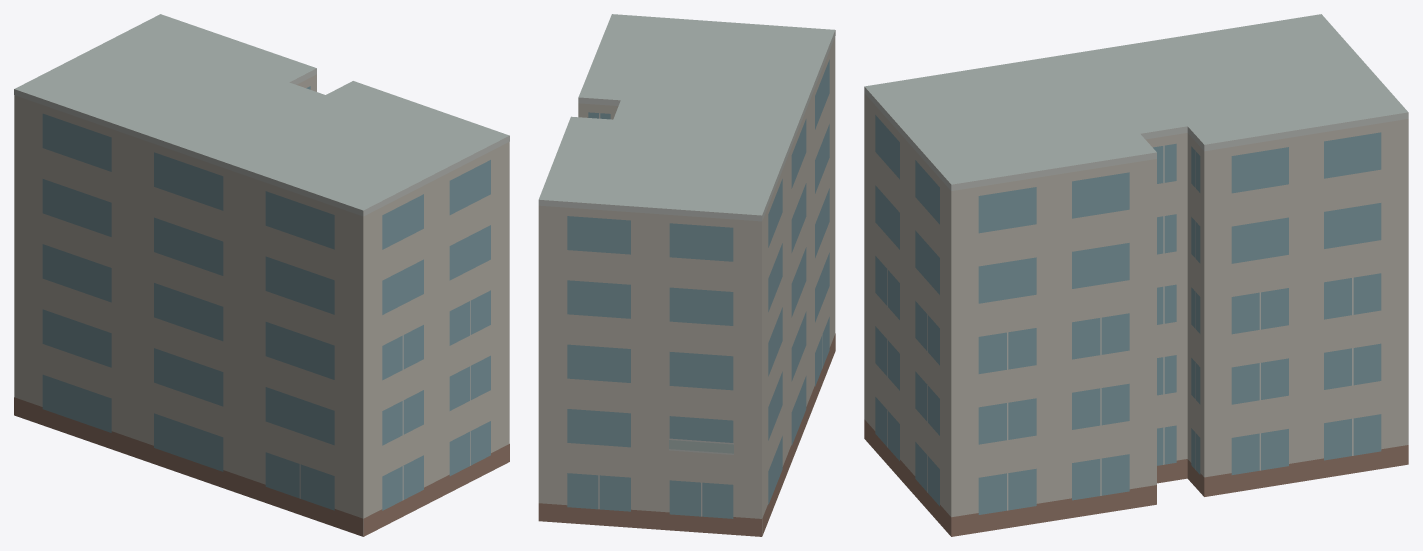
The model's file is survey-upis-32867612.glb.
3 renders of one model, left to right at view 1: azimuth 30°, elevation 25°; view 2: azimuth 150°, elevation 25°; view 3: azimuth 270°, elevation 25°, orthographic. The views are drawn at different scales.
Visible parts, largest first — view 1: survey-upis-32867612.tmp; view 2: survey-upis-32867612.tmp; view 3: survey-upis-32867612.tmp.
Part boxes in pixels (x1=…): survey-upis-32867612.tmp: x1=14, y1=14, x2=509, y2=536; survey-upis-32867612.tmp: x1=538, y1=14, x2=835, y2=536; survey-upis-32867612.tmp: x1=864, y1=14, x2=1408, y2=536.
Size of the model in its own units: 13.78 by 13.25 by 18.57.
